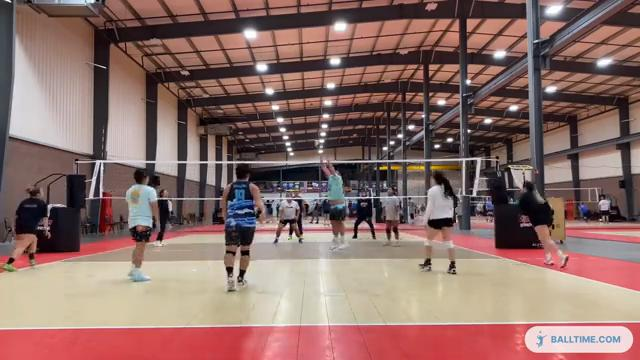Player: (222, 164, 265, 290), (519, 181, 568, 267), (3, 187, 48, 271), (420, 171, 456, 273), (126, 169, 158, 281), (273, 196, 302, 243), (353, 189, 375, 239), (383, 187, 400, 245), (598, 195, 610, 223)
Set: (314, 152, 350, 256)
ball: (314, 139, 321, 148)
